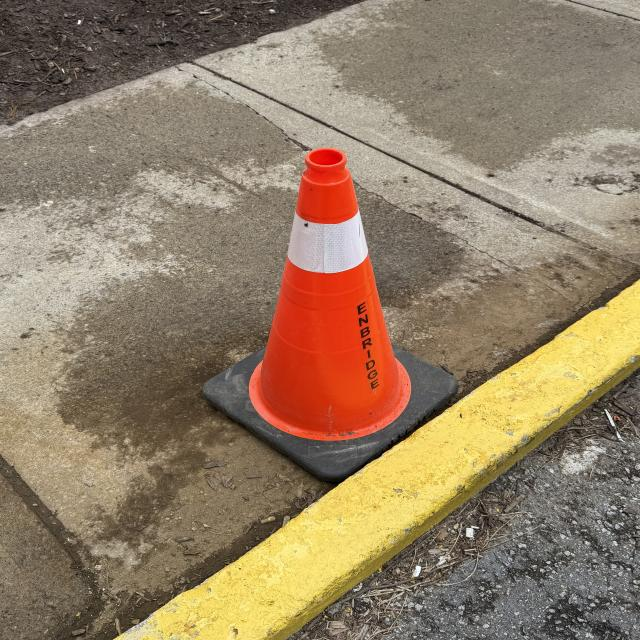Traffic Cone: (203, 146, 464, 477)
